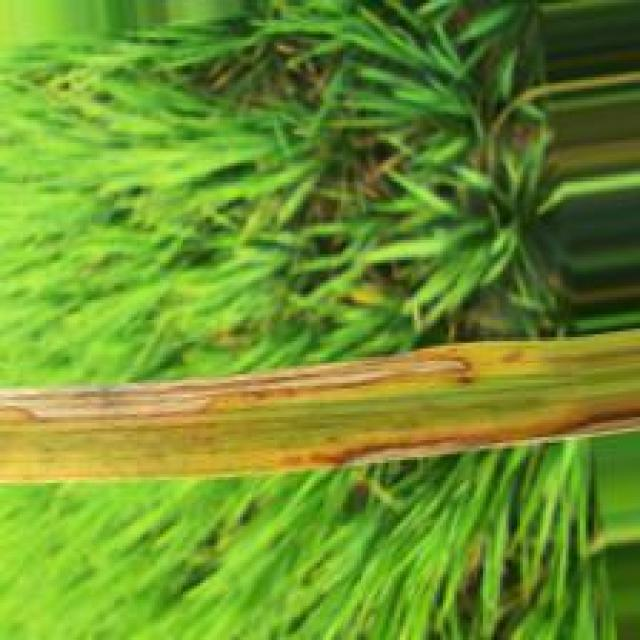Leaf_Blast: (0, 347, 475, 422), (305, 403, 640, 468)
